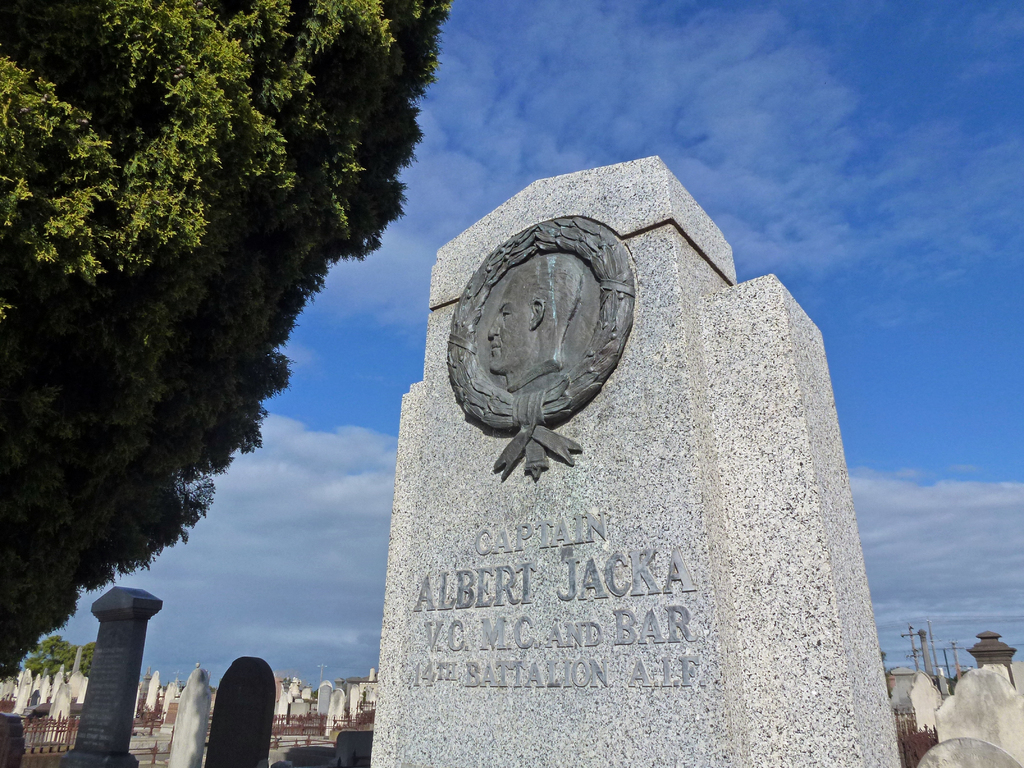Tree: (18, 38, 389, 659), (19, 638, 96, 672)
